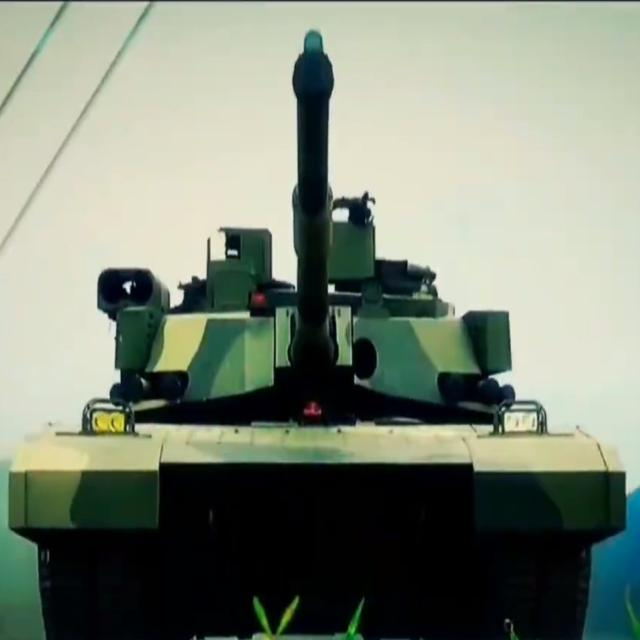north tank: (10, 8, 632, 640)
